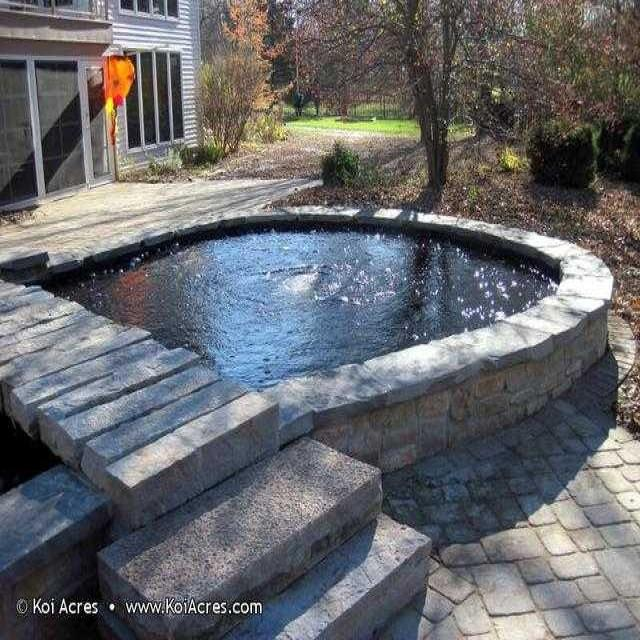Ponds: (1, 204, 616, 440)
